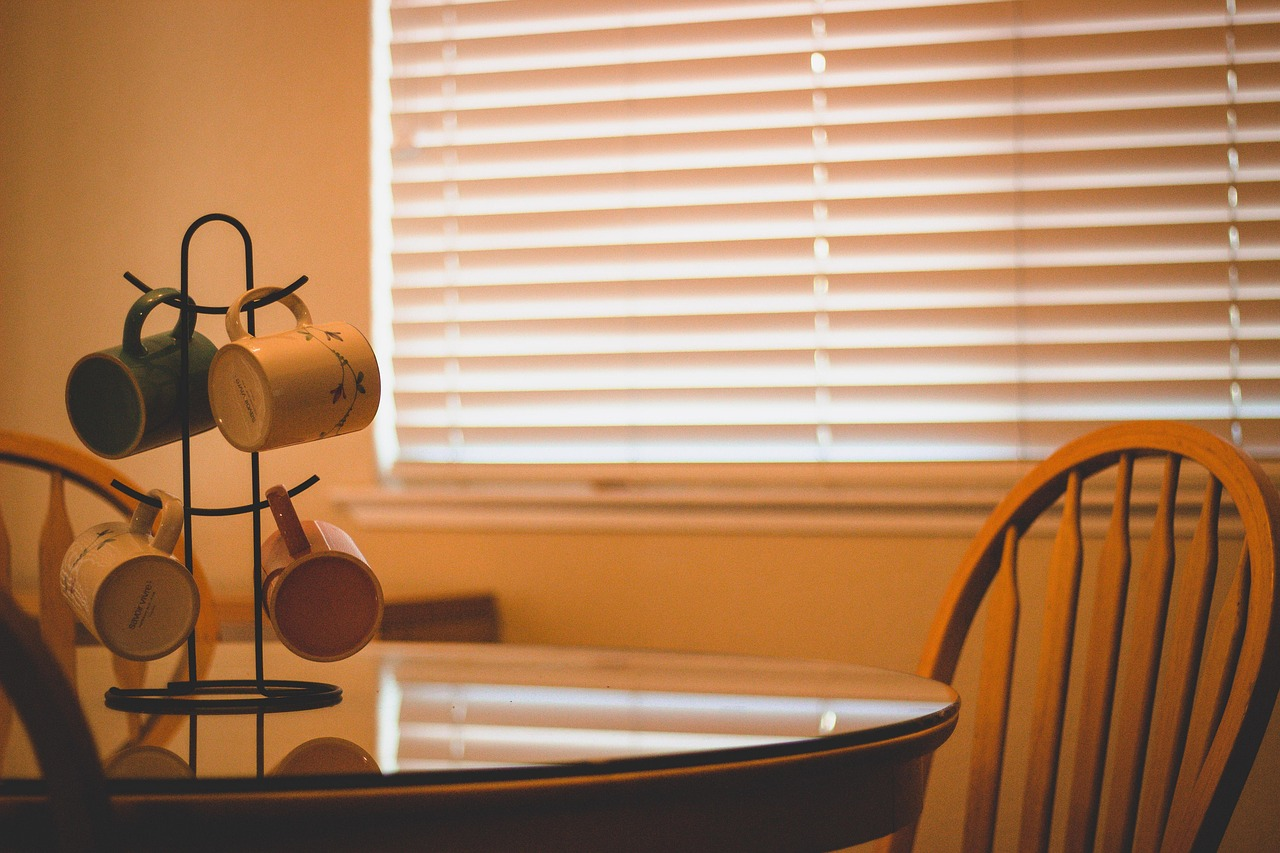mug: (34, 248, 263, 531), (213, 481, 460, 690), (19, 465, 223, 687), (213, 242, 444, 437)
